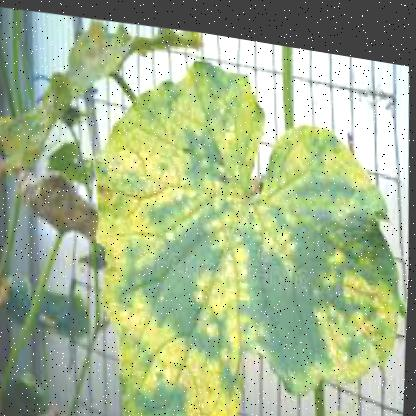DownyMildew: (96, 123, 231, 415), (266, 125, 409, 370), (135, 52, 266, 242)
